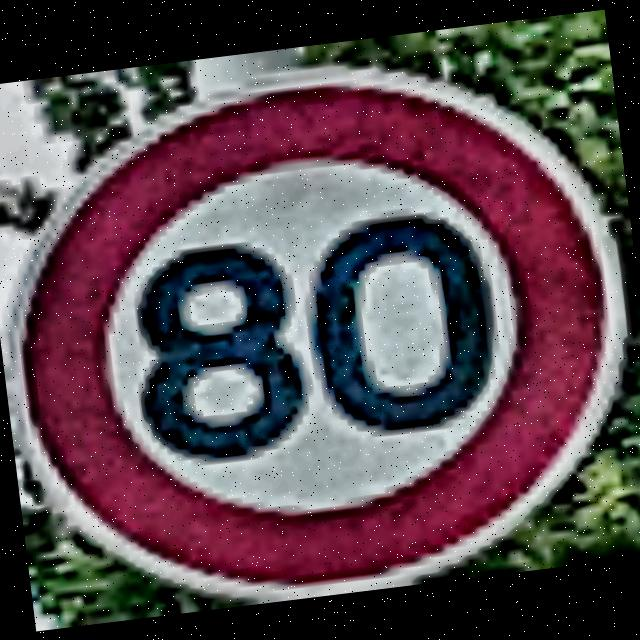speed_80: (0, 9, 640, 631)
